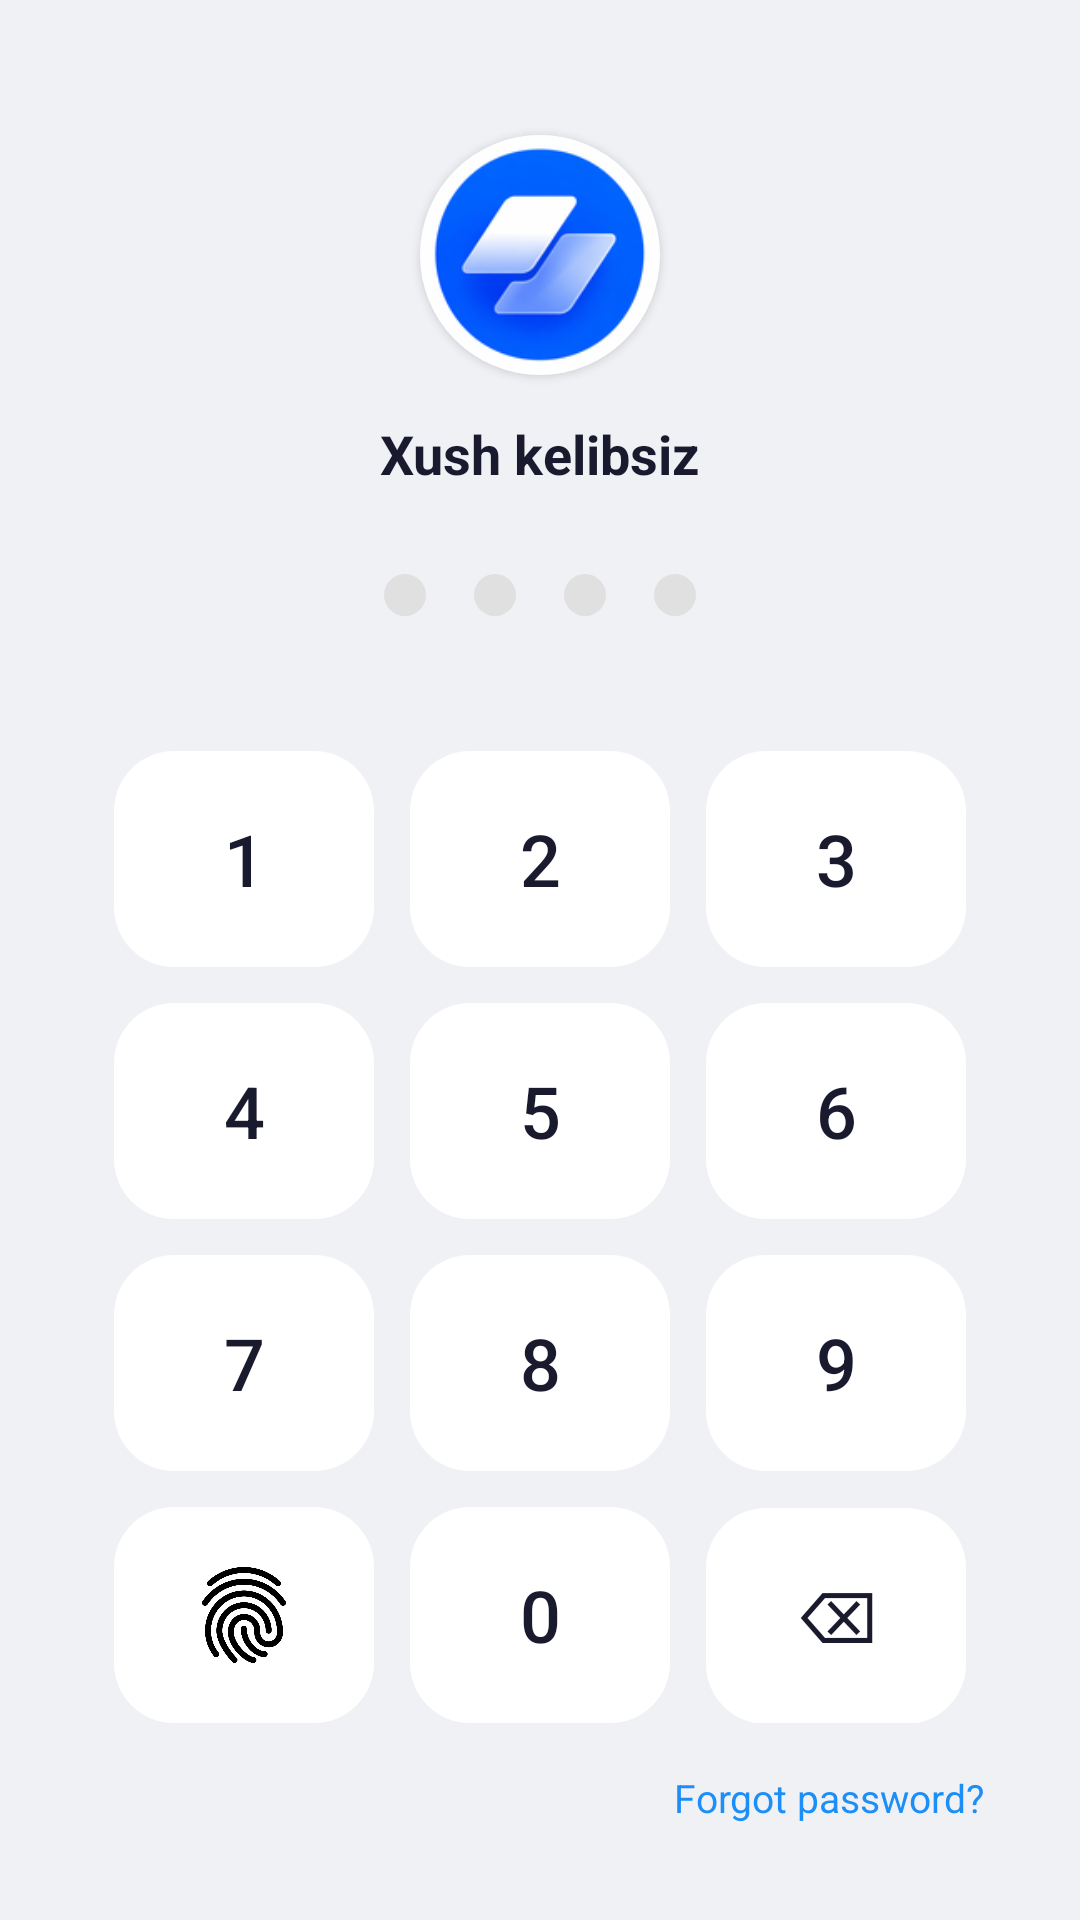

Where to tap for icons on this 1080w x 1920h app screen, as [x,y]:
fingerprint: [244,1615]
